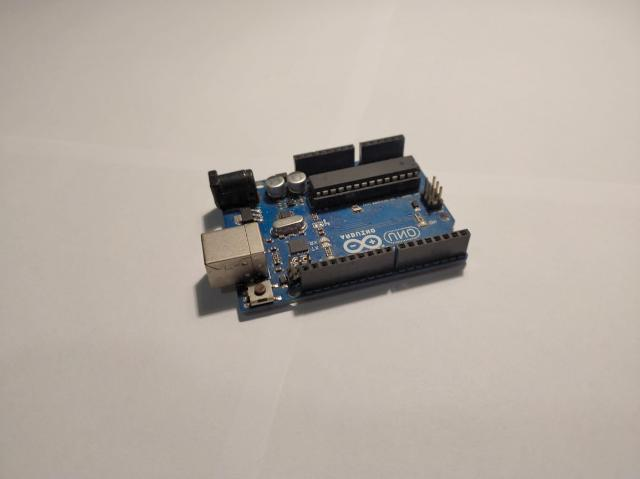arduino: (201, 134, 471, 314)
